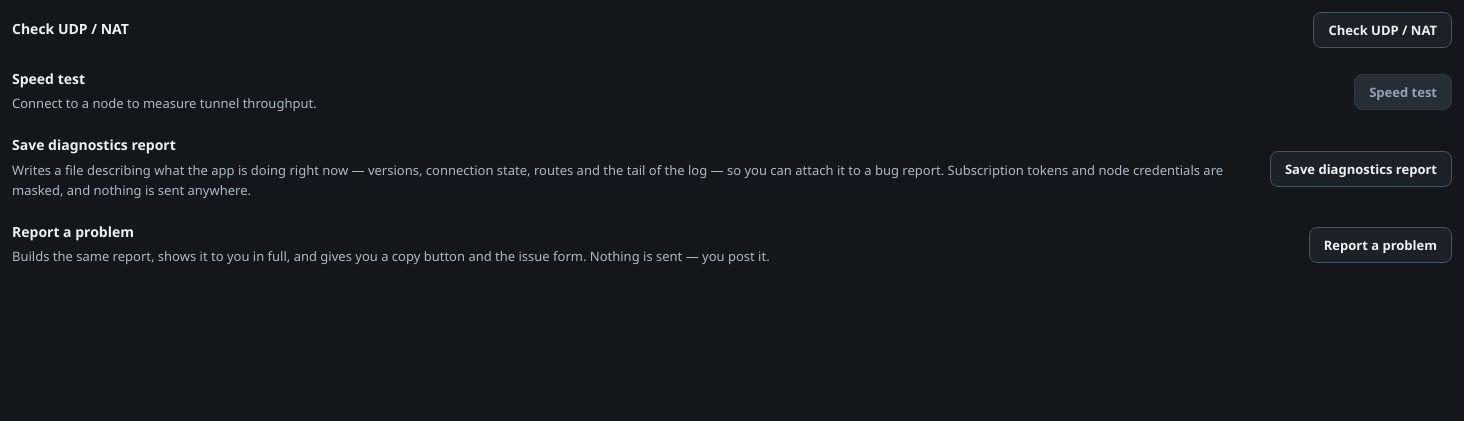
Test: DiagnosticsPanel › STUN / NAT probe › runs the probe and shows the reachability facts
Click the button "Check UDP / NAT": (1383, 30) [1314,12,1452,48]
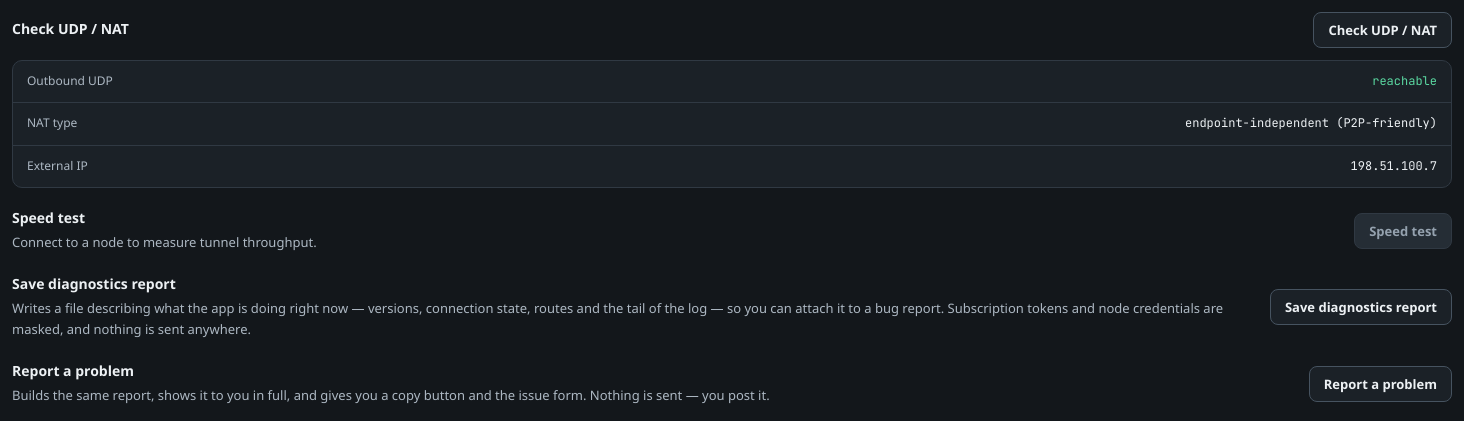
Now the text "reachable" is shown, box [1372,72,1437,91]
Now the text "endpoint-independent (P2P-friendly)" is shown, box [1185,114,1437,134]
Now the text "198.51.100.7" is shown, box [1351,157,1437,176]
